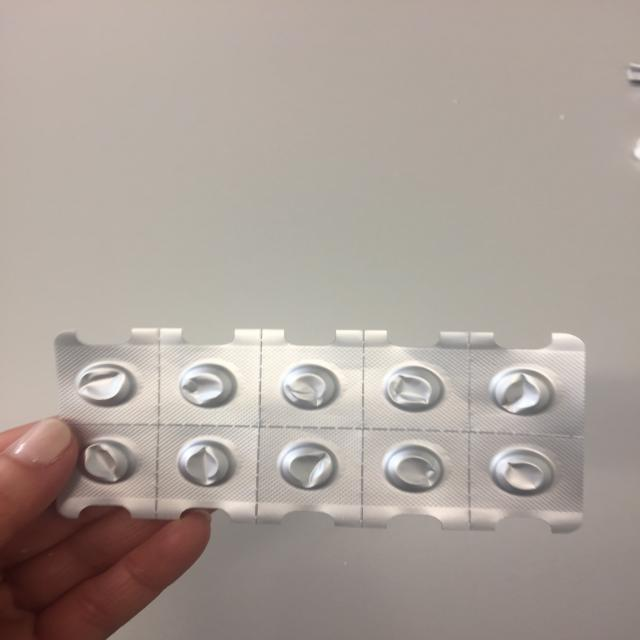Empty: (372, 440, 455, 497), (482, 443, 561, 500), (482, 362, 556, 422), (376, 362, 448, 418), (270, 438, 342, 494), (68, 358, 141, 410), (174, 358, 239, 415), (170, 435, 237, 490), (69, 437, 139, 488), (277, 362, 347, 412)
